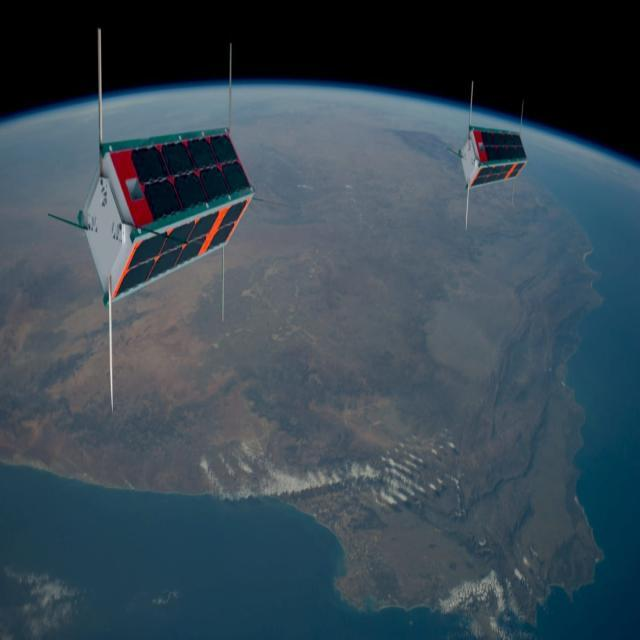sat: (53, 16, 272, 392), (441, 65, 539, 238)
